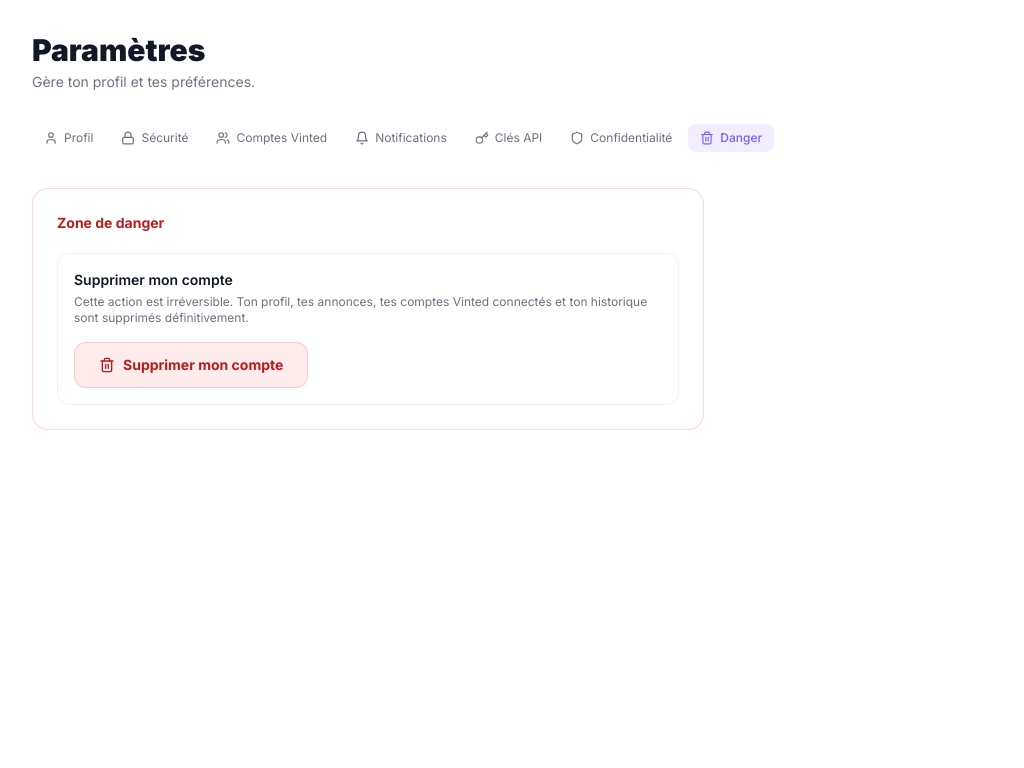
Test: SettingsPage -- suppression de compte (onglet Danger) › le bouton de confirmation reste desactive tant que "SUPPRIMER" n'est pas tape exactement
Click the button "Supprimer mon compte": (191, 365) [74,342,308,388]
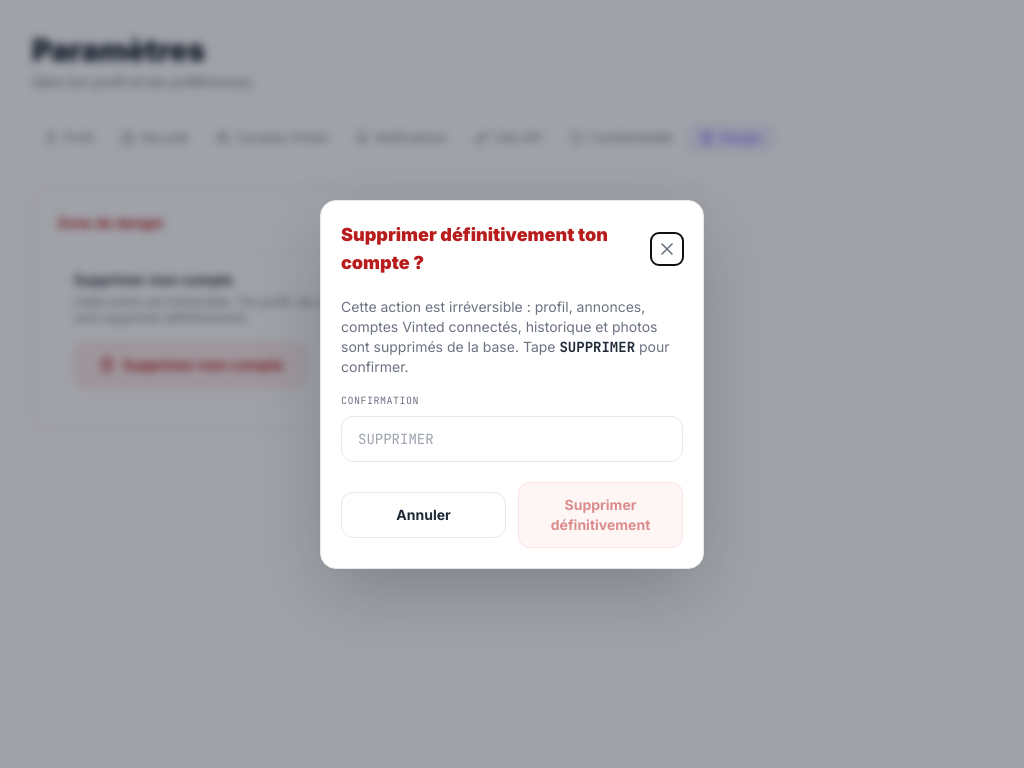
Check: the button "Supprimer définitivement" is disabled, box [518,482,683,548]
In the field labelled "Confirmation": (512, 438) [341,416,683,462], type "suppr"
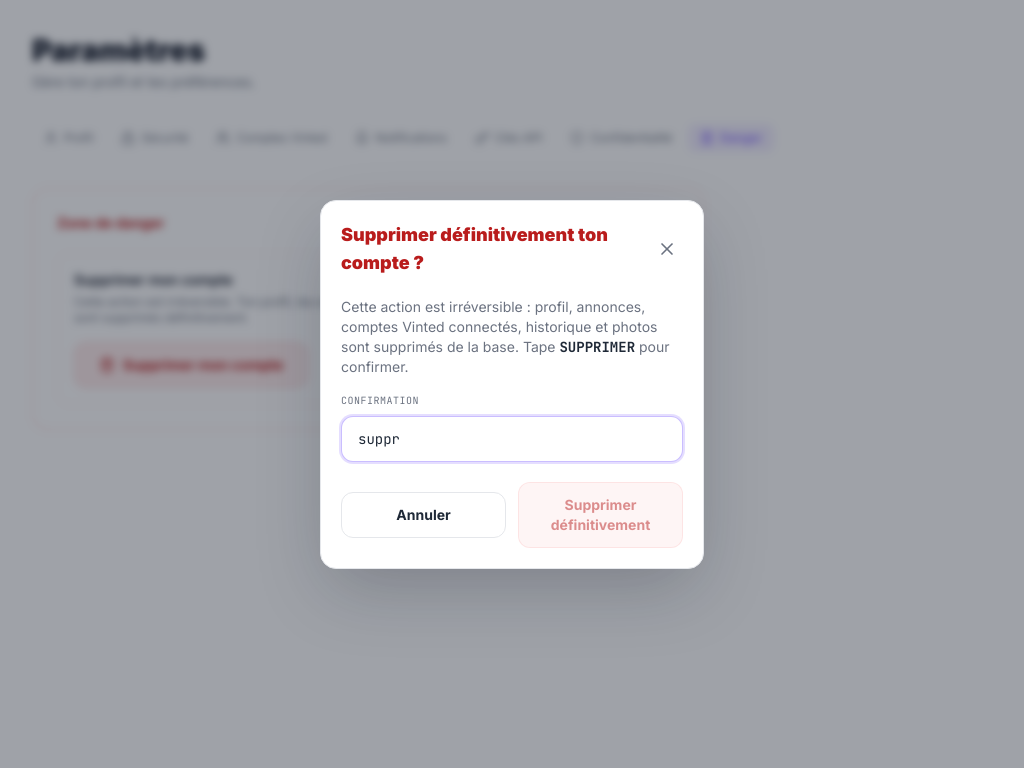
Check: the button "Supprimer définitivement" is disabled, box [518,482,683,548]
Replace the text in the field labelled "Confirmation" with "SUPPRIMER": (512, 438) [341,416,683,462]
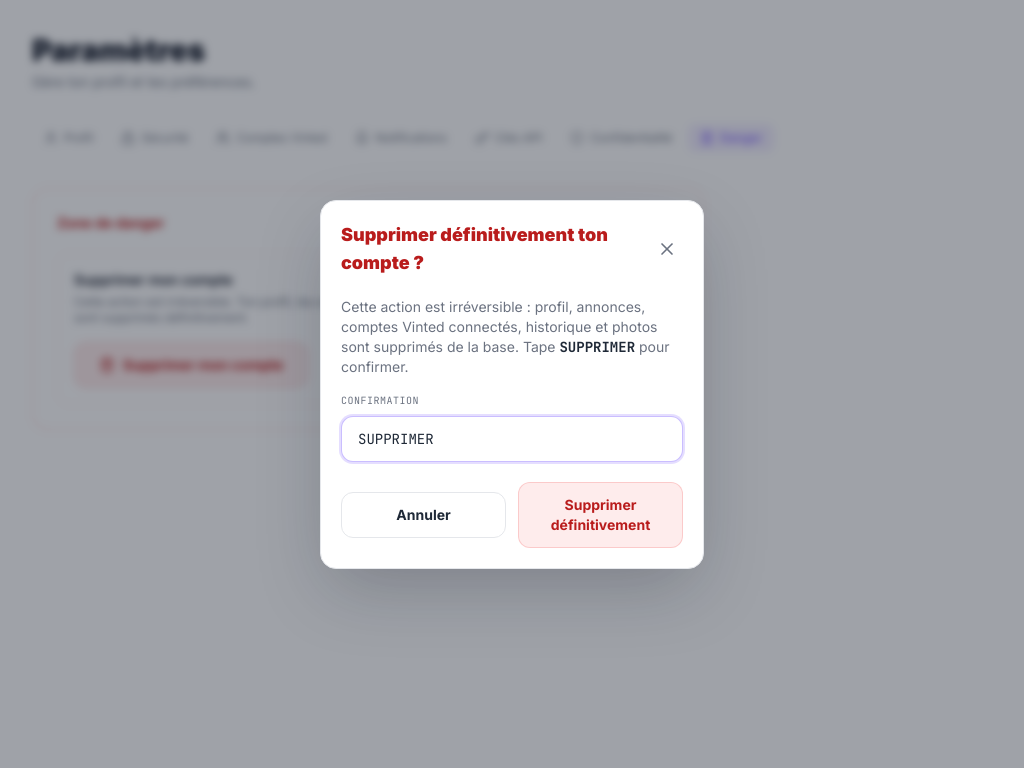
Check: the button "Supprimer définitivement" is enabled, box [518,482,683,548]
